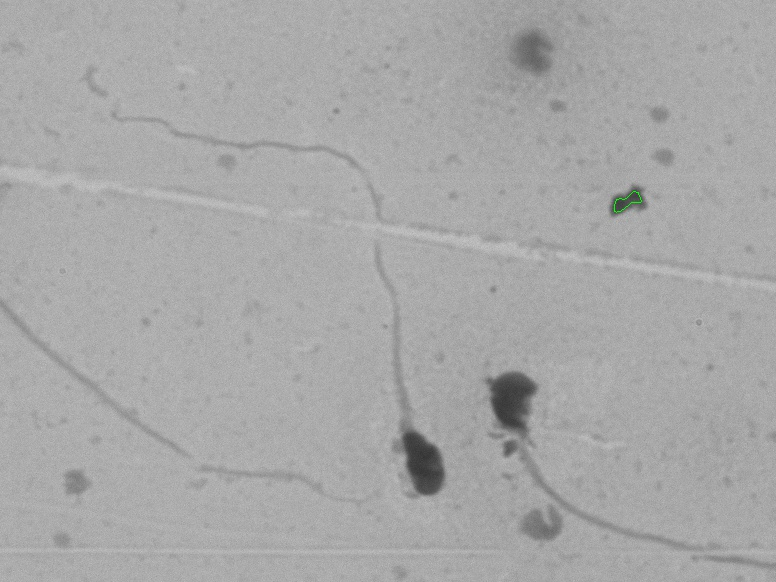Abnormal: (104, 68, 455, 518), (479, 301, 751, 572)
